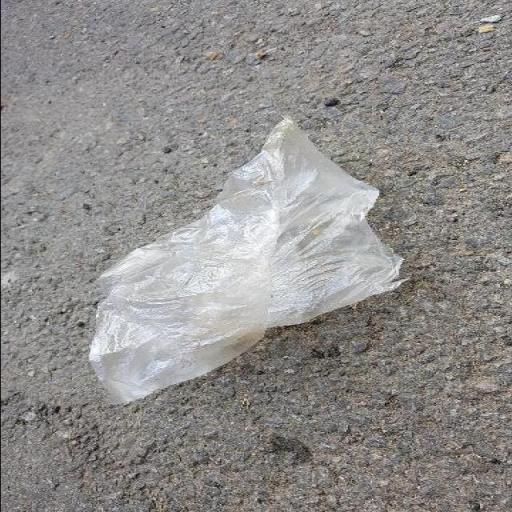plastic-bag: (86, 112, 409, 405)
